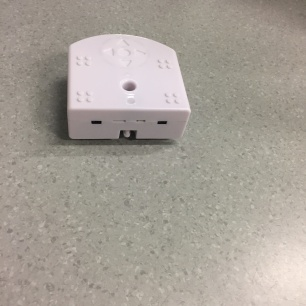thymio: (62, 29, 195, 148)
